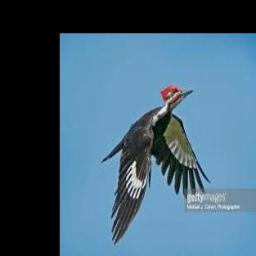Woodpecker: (101, 85, 211, 245)
